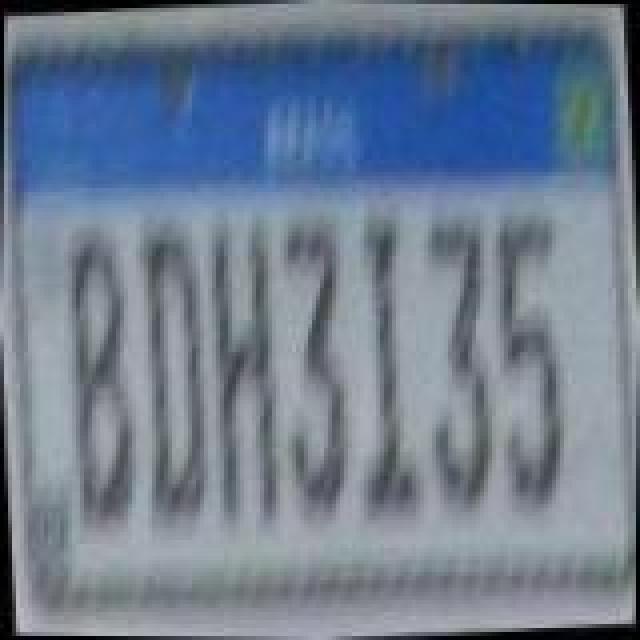3: (272, 220, 360, 532), (412, 216, 500, 516)
5: (486, 208, 578, 520)
B: (58, 224, 146, 536)
D: (130, 222, 218, 534)
H: (204, 216, 292, 532)
I: (344, 212, 432, 528)
